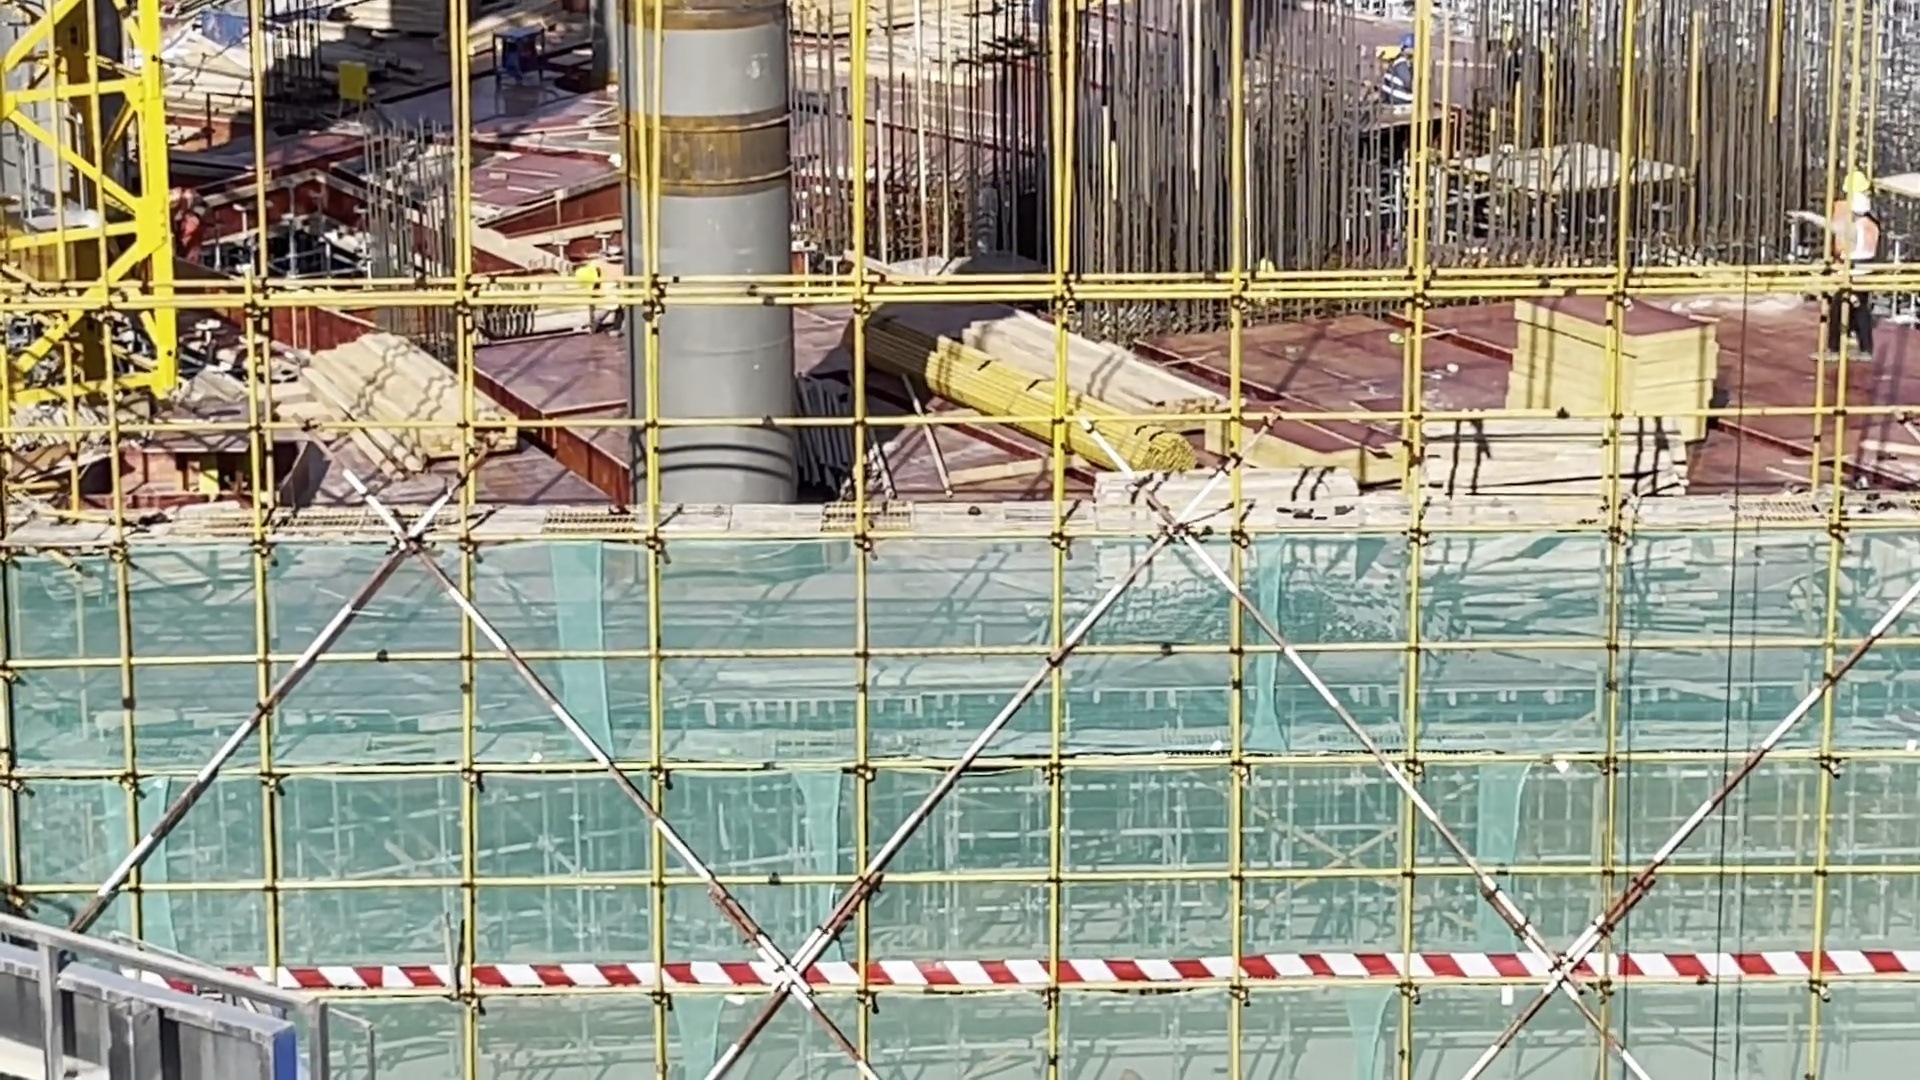helmet: (1854, 182, 1874, 211), (1398, 41, 1434, 56), (573, 256, 599, 276), (1498, 47, 1529, 59), (1853, 172, 1871, 187)
person: (1849, 188, 1884, 343), (154, 183, 213, 258), (579, 260, 626, 348), (1496, 36, 1553, 105), (1386, 31, 1421, 113), (1833, 165, 1859, 225)
vest: (1838, 212, 1883, 287), (1856, 221, 1884, 277), (1516, 54, 1549, 96), (178, 184, 209, 229), (608, 266, 633, 316), (1828, 219, 1844, 296), (1391, 57, 1414, 96), (1843, 201, 1854, 269)
